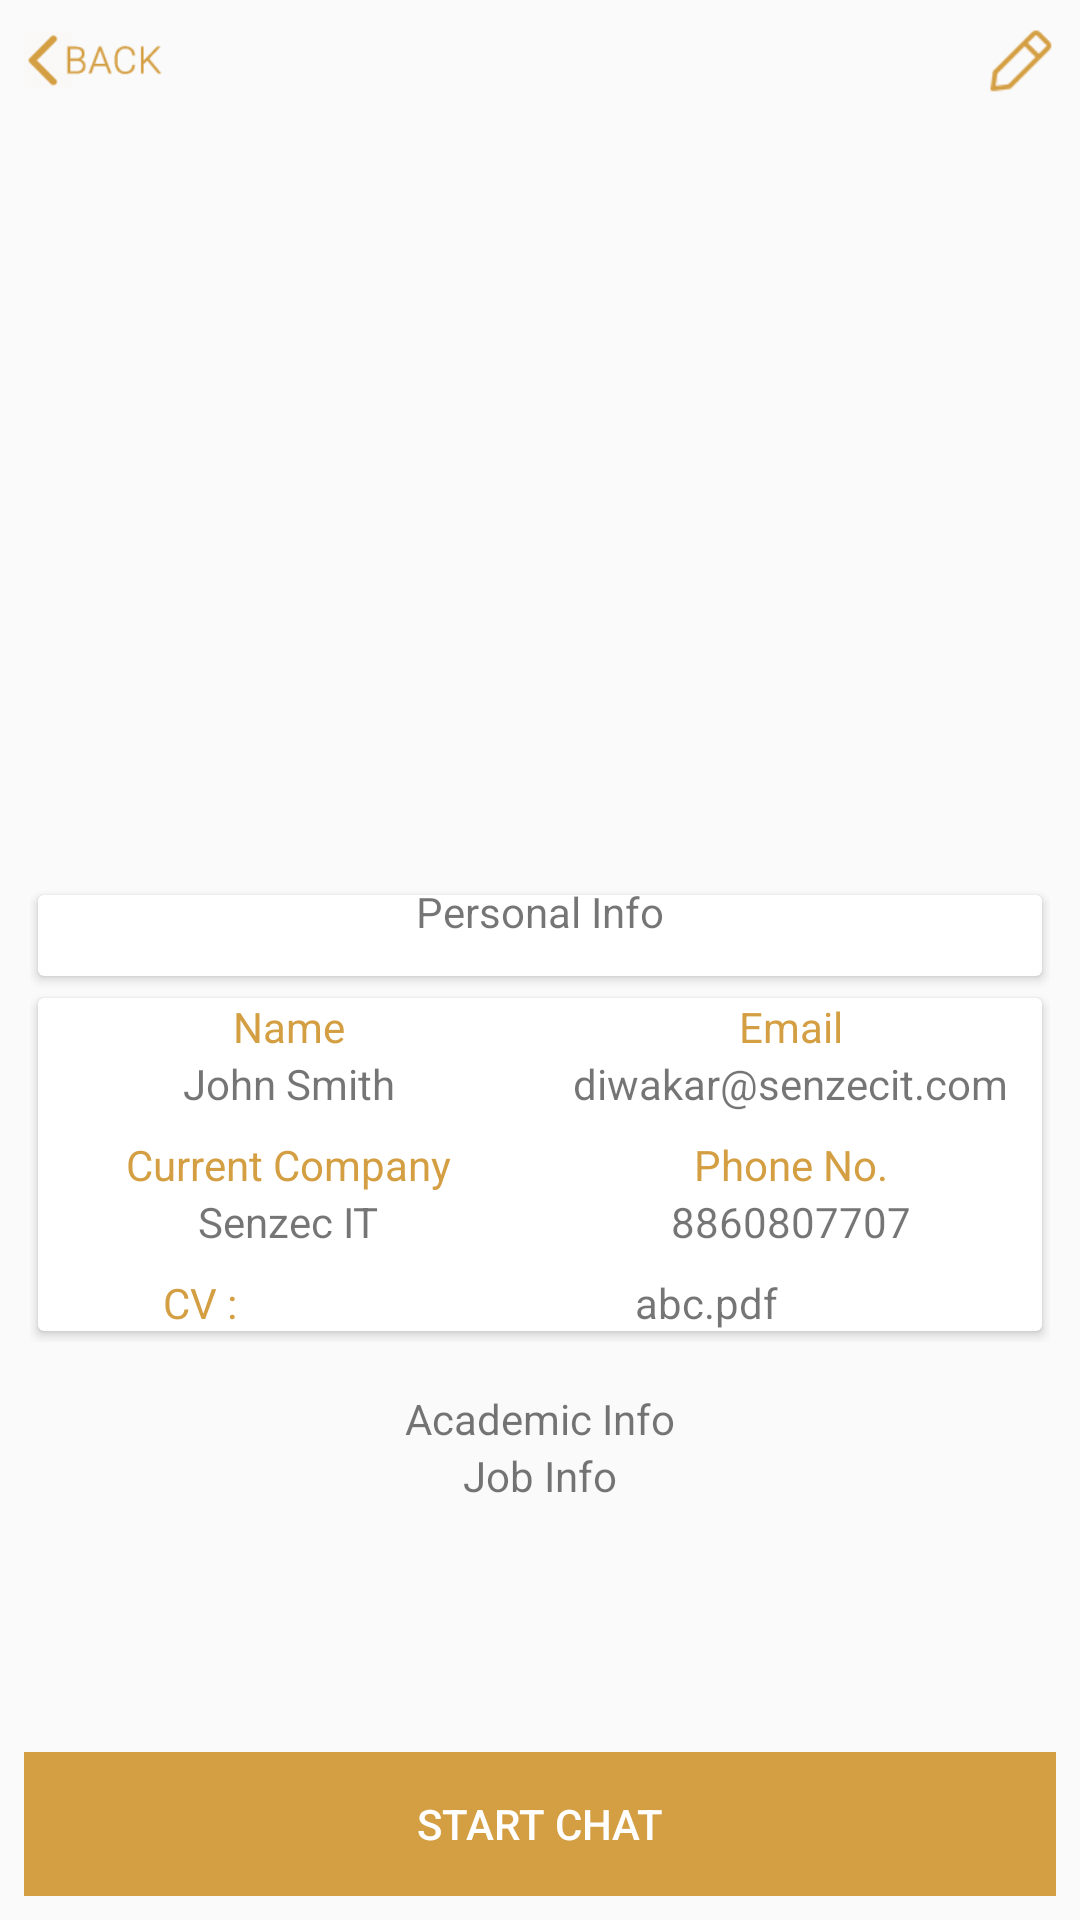

Where icons sit on this 1080*1920 app screen, as {"x1": x1, "y1": y1, "x2": x2, "y2": y2}:
edit: {"x1": 990, "y1": 30, "x2": 1052, "y2": 92}
